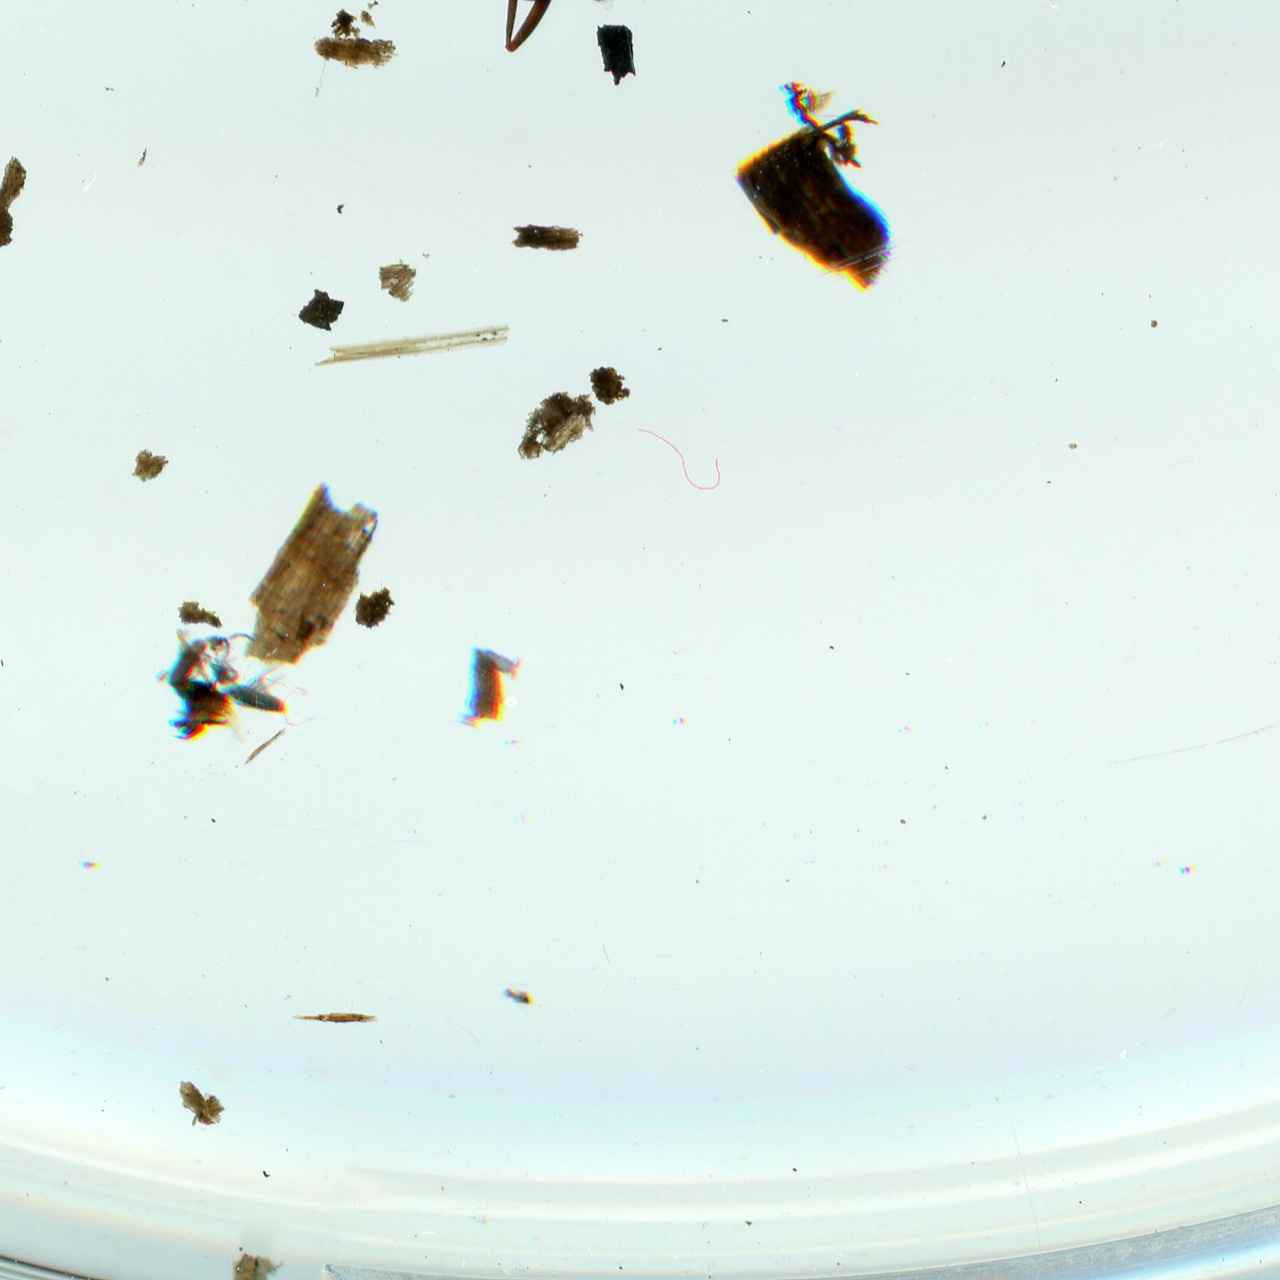arthropod: (441, 0, 739, 60), (201, 643, 300, 724), (157, 622, 265, 693), (476, 640, 527, 684)
